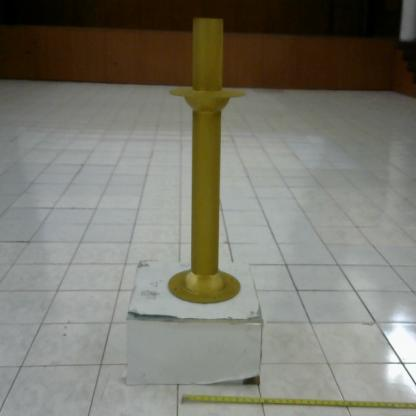pole: (164, 9, 248, 308)
